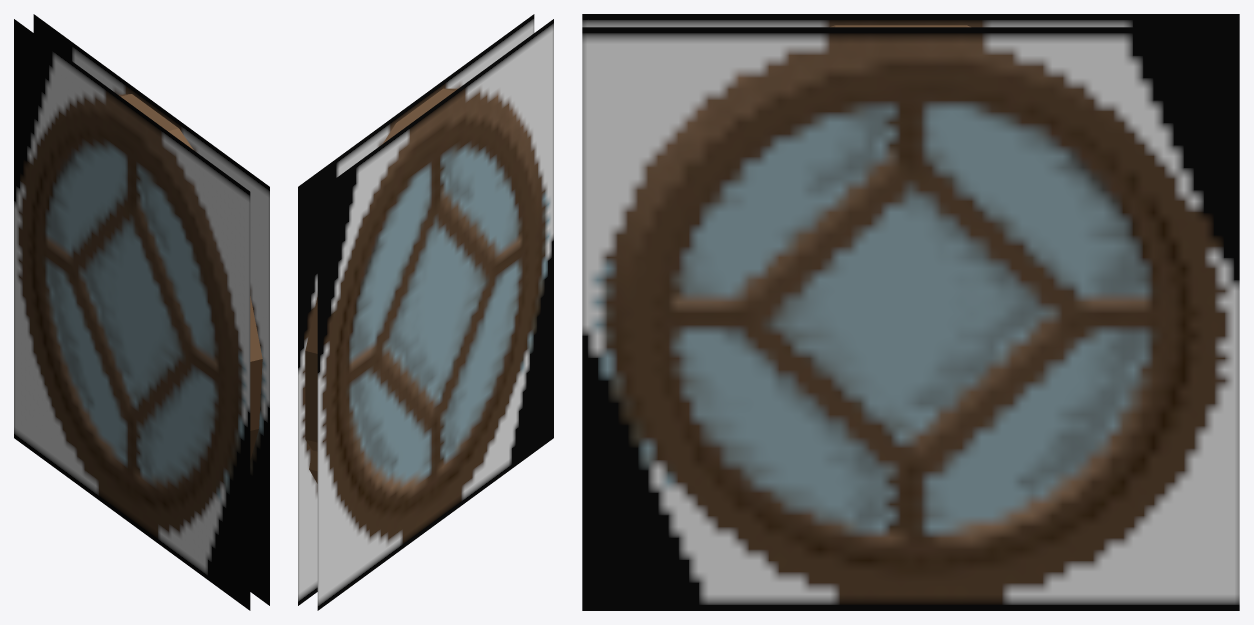
File: pz_native_fixtures_windows_wood_30_frame.obj
The picture shows the model from 3 angles, left to right: view 1: azimuth 30°, elevation 25°; view 2: azimuth 150°, elevation 25°; view 3: azimuth 270°, elevation 25°; orthographic projection. The views are drawn at different scales.
Visible parts, largest first — view 1: pz_native_fixtures_windows_wood_30_frame; view 2: pz_native_fixtures_windows_wood_30_frame; view 3: pz_native_fixtures_windows_wood_30_frame.
Part boxes in pixels (x1=…): pz_native_fixtures_windows_wood_30_frame: x1=14, y1=14, x2=269, y2=610; pz_native_fixtures_windows_wood_30_frame: x1=298, y1=14, x2=553, y2=610; pz_native_fixtures_windows_wood_30_frame: x1=582, y1=14, x2=1239, y2=610.
Bounding box in the file's own units: 0.04 × 0.8125 × 0.8293.
1 material, 1 textured.
